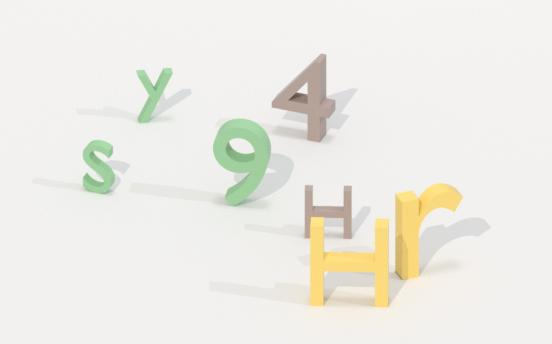4: (267, 54, 339, 141)
9: (209, 119, 275, 208)
H-hoa: (310, 218, 396, 311), (301, 181, 358, 242)
R: (391, 187, 470, 279)
Y: (132, 65, 179, 128)
s: (80, 137, 120, 199)
